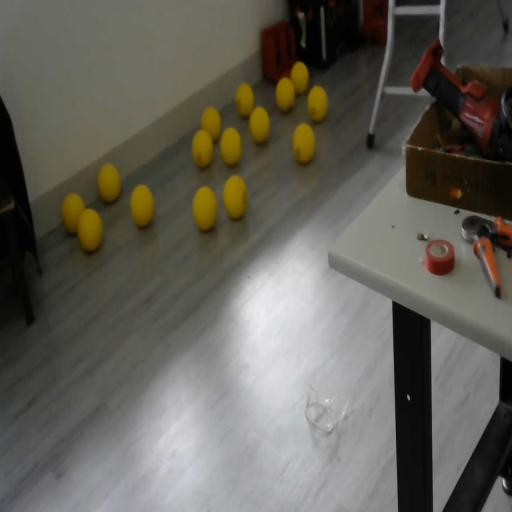FUEL: (76, 206, 103, 253), (192, 185, 218, 232), (222, 173, 248, 219), (129, 183, 155, 228), (96, 162, 122, 204), (292, 121, 316, 164), (219, 126, 243, 166), (192, 128, 214, 169), (248, 106, 271, 144), (274, 76, 296, 112), (306, 85, 328, 121), (290, 60, 310, 94), (236, 82, 254, 116)
